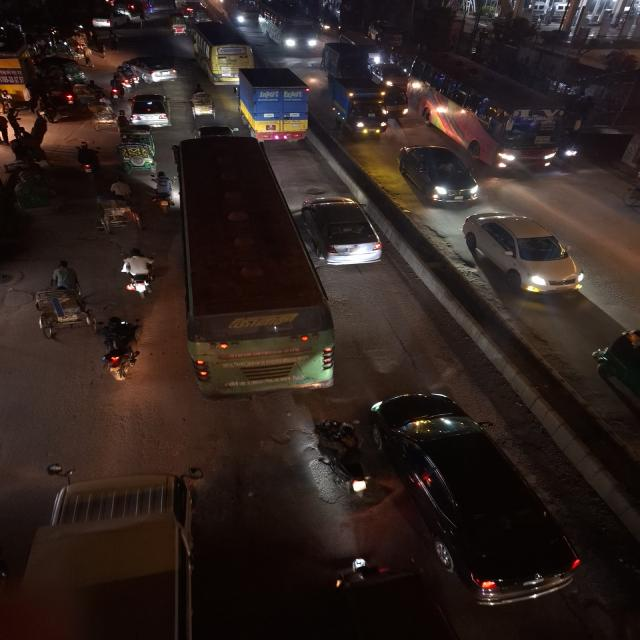bus: (173, 135, 342, 401), (416, 48, 574, 174), (188, 20, 254, 84), (256, 2, 321, 55)
car: (358, 385, 597, 609), (458, 209, 590, 298), (298, 190, 387, 270), (395, 142, 482, 208), (125, 91, 173, 129), (125, 55, 179, 87), (374, 63, 412, 93), (88, 10, 123, 30)
cng: (166, 13, 190, 37), (182, 0, 208, 18)
motorcycle: (302, 416, 384, 506), (96, 315, 150, 387), (118, 246, 164, 301), (74, 140, 102, 179), (148, 168, 174, 210), (119, 62, 140, 90), (108, 78, 125, 102)
pedestrian: (0, 112, 13, 145)
rickshaw: (30, 258, 91, 341), (12, 170, 66, 218), (90, 191, 143, 235), (114, 128, 158, 172), (188, 84, 216, 120), (88, 100, 118, 132), (168, 13, 190, 37)
truck: (13, 465, 210, 640), (232, 64, 313, 146), (328, 75, 391, 142)
